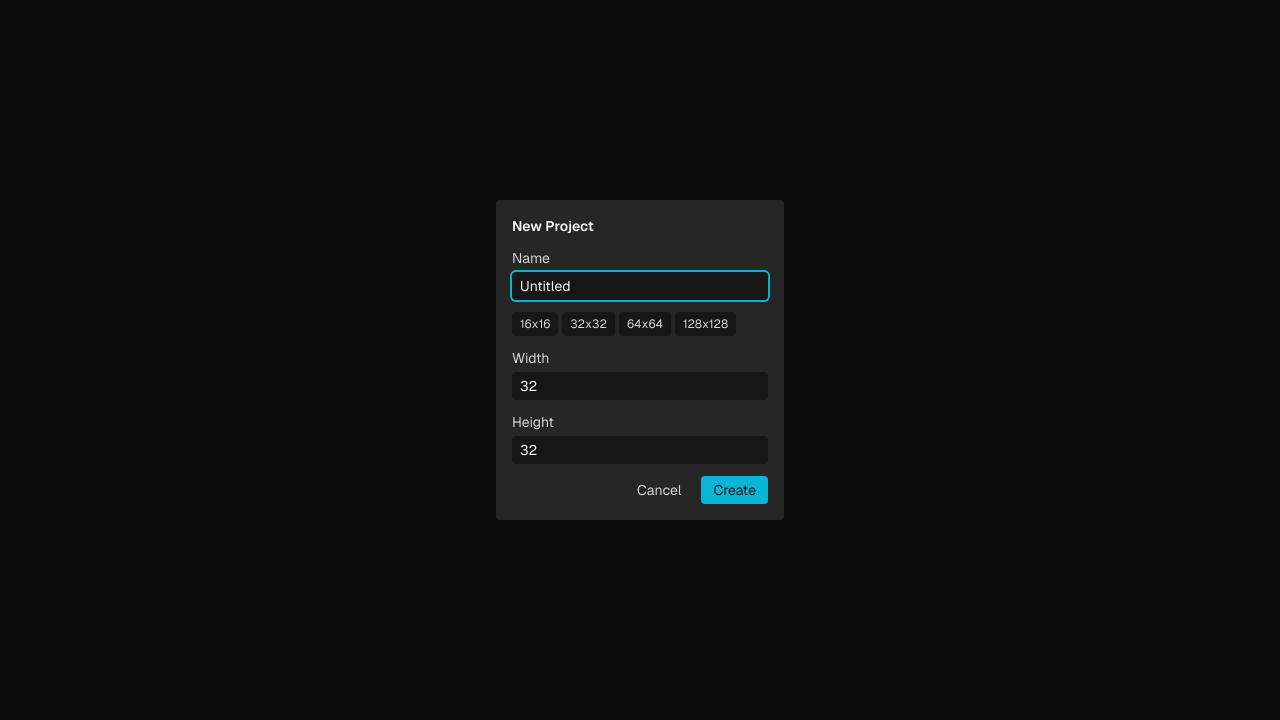
NewProjectDialog › fills both size inputs when a preset is clicked
What coordinates should you click on to do the following:
click the button "64x64"
I would click on:
 (645, 324)
Its box is x1=619 y1=312 x2=671 y2=336.
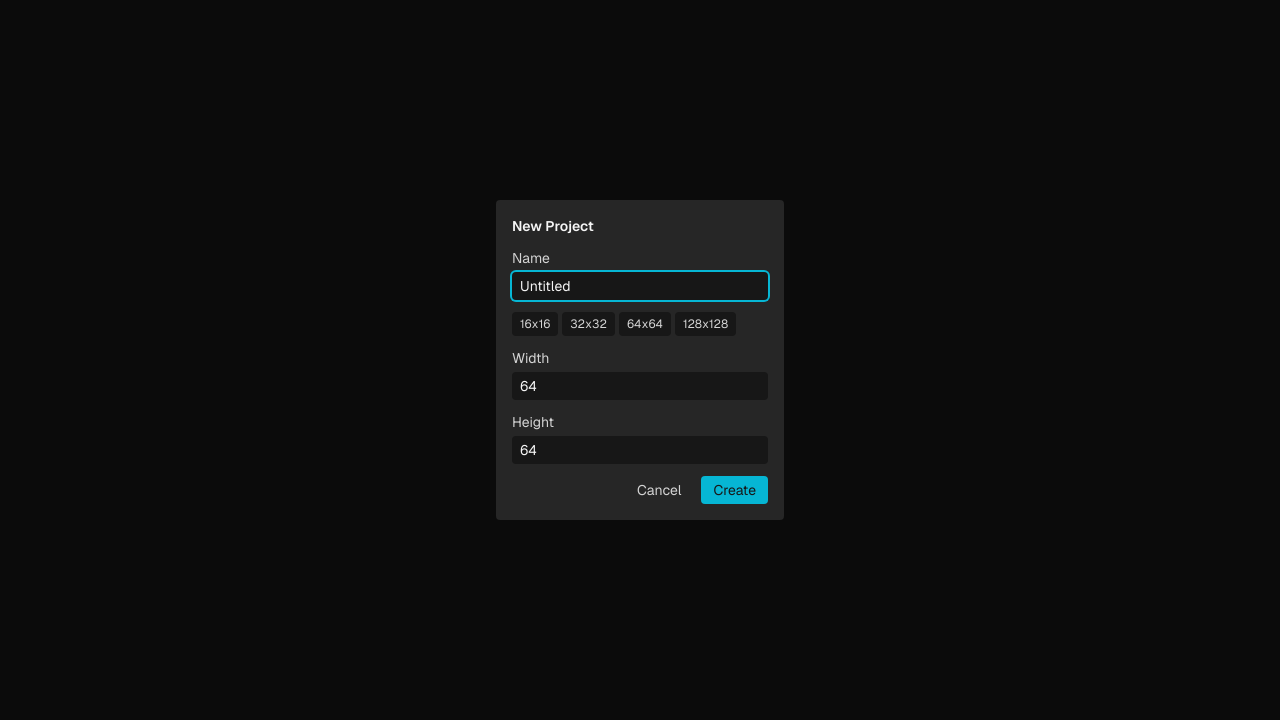
expect the number field labelled "Width" holds "64": met, box x1=512 y1=372 x2=768 y2=400
expect the number field labelled "Height" holds "64": met, box x1=512 y1=436 x2=768 y2=464
